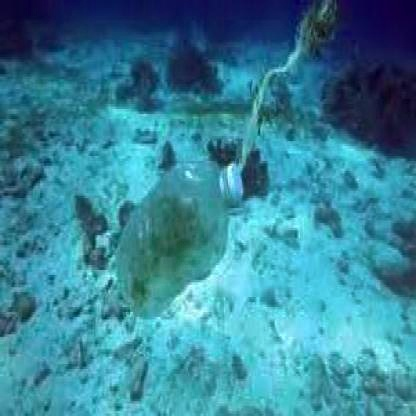pbottle: (101, 154, 249, 320)
